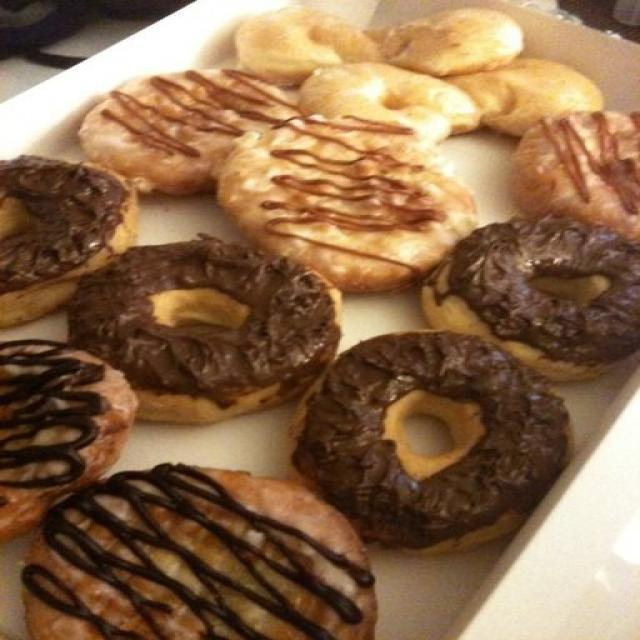Donuts: (7, 12, 632, 640)
